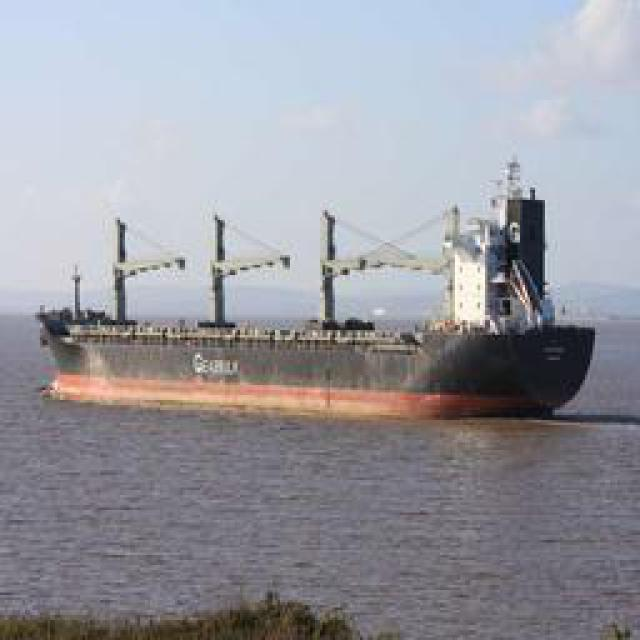Ship: (44, 152, 614, 415)
